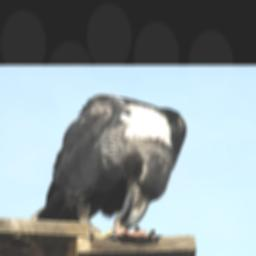Crow: (29, 90, 189, 242)
